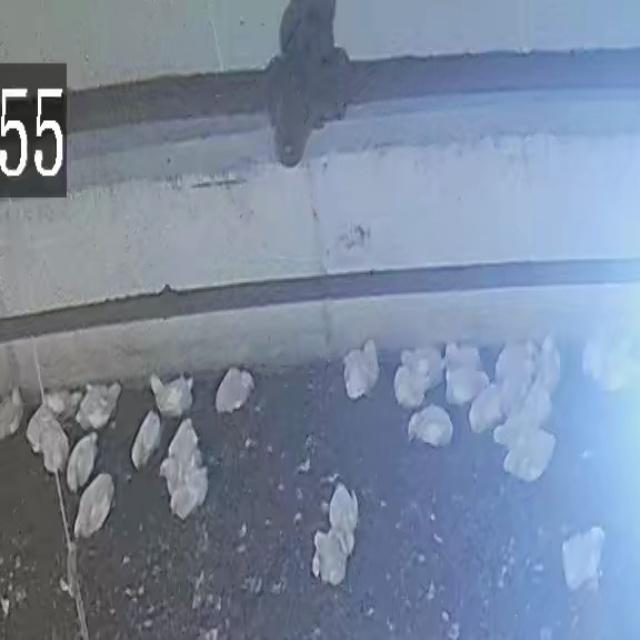chicken: (562, 530, 606, 595), (73, 475, 115, 541), (158, 427, 199, 487), (342, 342, 381, 402), (148, 373, 199, 415), (78, 383, 123, 429), (504, 435, 552, 478), (215, 365, 255, 415), (440, 369, 487, 408), (313, 535, 349, 585), (127, 419, 162, 470), (407, 410, 452, 449), (329, 487, 356, 551), (67, 439, 100, 491), (525, 376, 553, 437), (401, 346, 443, 386), (172, 474, 207, 522), (465, 388, 500, 435), (492, 372, 531, 413), (478, 413, 533, 442), (394, 367, 431, 405), (493, 348, 541, 377), (25, 407, 55, 452), (0, 385, 25, 439), (40, 424, 69, 470), (441, 335, 481, 368), (43, 390, 85, 417), (542, 339, 560, 390)
